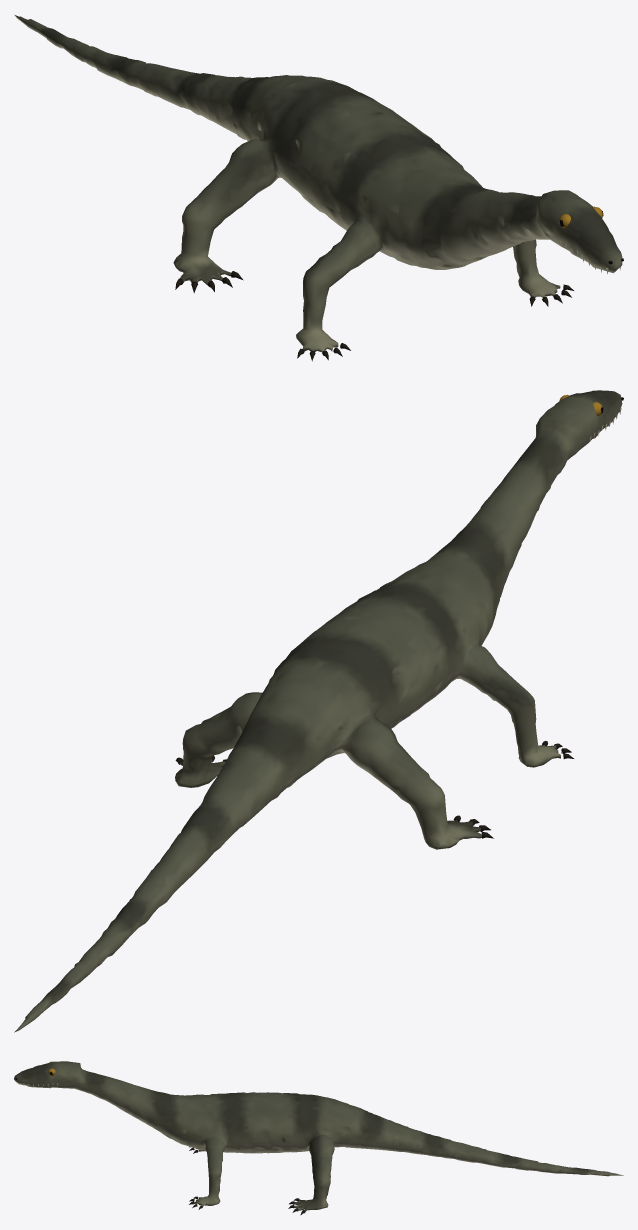
File: Protorosaurus.fbx
The picture shows the model from 3 angles, top to bottom: view 1: azimuth 30°, elevation 25°; view 2: azimuth 150°, elevation 25°; view 3: azimuth 270°, elevation 25°; orthographic projection. The views are drawn at different scales.
Visible parts, largest first — view 1: Protorosaurus; view 2: Protorosaurus; view 3: Protorosaurus.
Boxes of the visible parts, x1,y1,x2,y2 form: Protorosaurus: (14, 15, 623, 361); Protorosaurus: (14, 390, 623, 1032); Protorosaurus: (14, 1061, 623, 1215).
Bounding box in the file's own units: 0.5748 × 0.3918 × 1.89.
